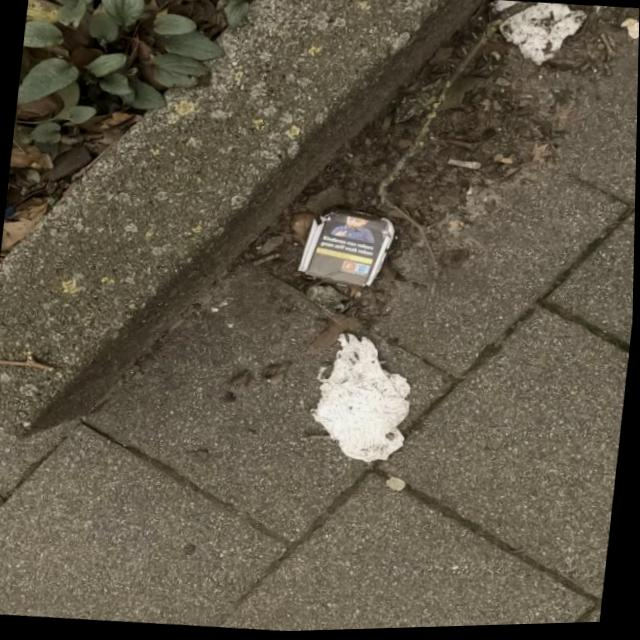Paper: (303, 330, 419, 470), (291, 206, 400, 295), (478, 0, 588, 76)
Plastic: (615, 19, 639, 44)
